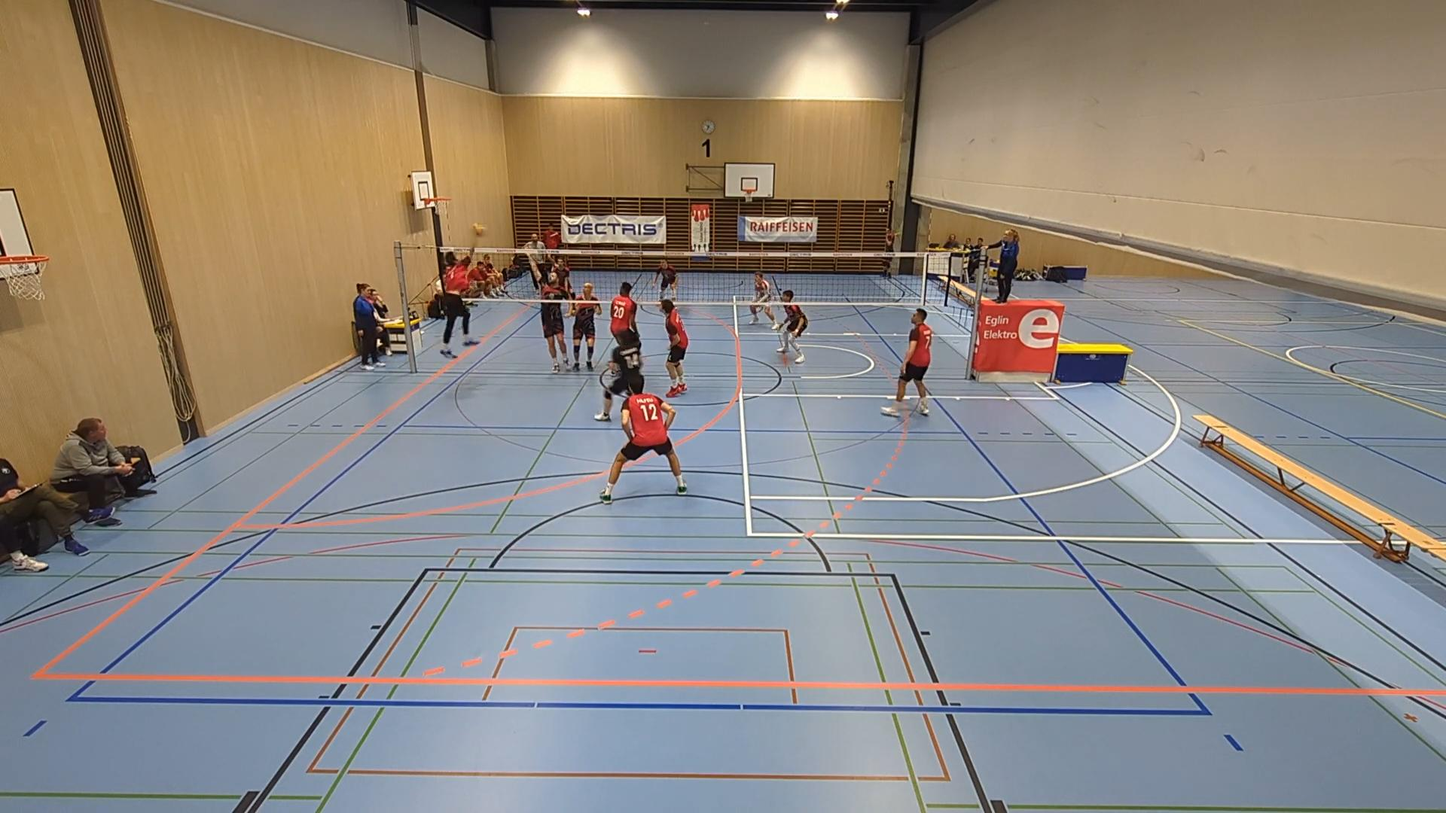attacco: (420, 236, 488, 363)
muro: (523, 241, 573, 374)
